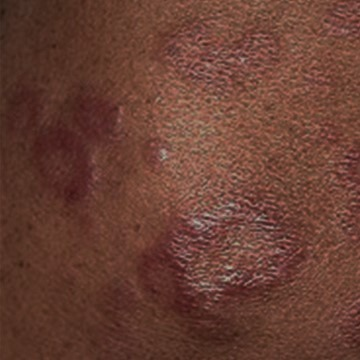Leprosy: (126, 192, 332, 327), (138, 12, 299, 98), (25, 83, 130, 211), (136, 128, 187, 179)
